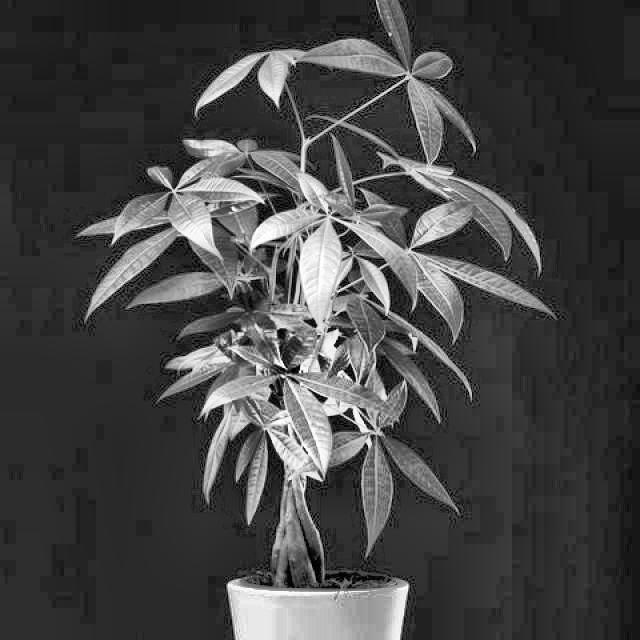plants: (66, 5, 554, 639)
